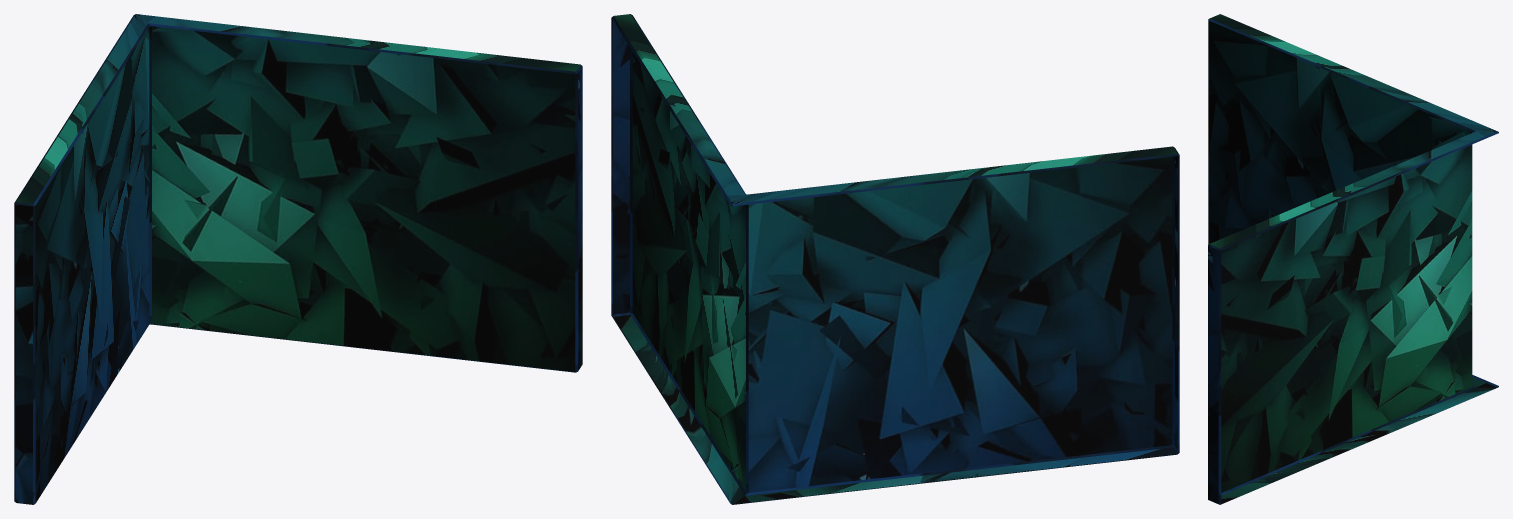
The model's file is colorWall.glb.
3 renders of one model, left to right at view 1: azimuth 30°, elevation 25°; view 2: azimuth 150°, elevation 25°; view 3: azimuth 270°, elevation 25°, orthographic. The views are drawn at different scales.
Parts seen in each view (by area): view 1: colorWalls; view 2: colorWalls; view 3: colorWalls.
Boxes of the visible parts, x1,y1,x2,y2 form: colorWalls: (14,14,582,504); colorWalls: (611,14,1179,504); colorWalls: (1208,14,1498,504).
Bounding box in the file's own units: 4.2 × 2.13 × 2.19.
Materials: 1 (1 with a texture image).
